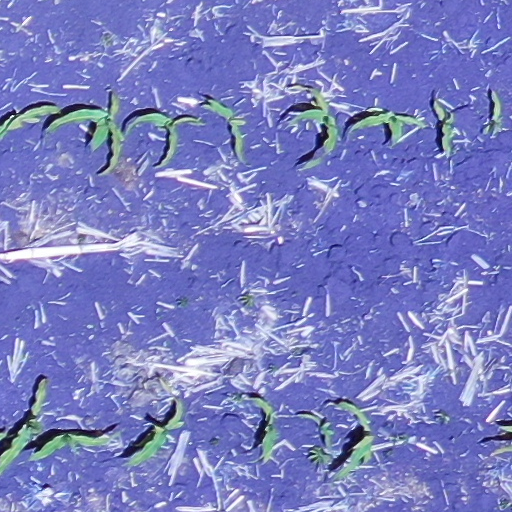planta: (48, 96, 125, 173), (291, 89, 338, 170), (133, 111, 200, 164), (130, 398, 183, 465), (338, 399, 374, 480), (31, 432, 112, 460), (352, 109, 425, 140), (205, 99, 244, 154), (250, 396, 277, 461), (432, 101, 456, 153), (487, 95, 500, 132)
